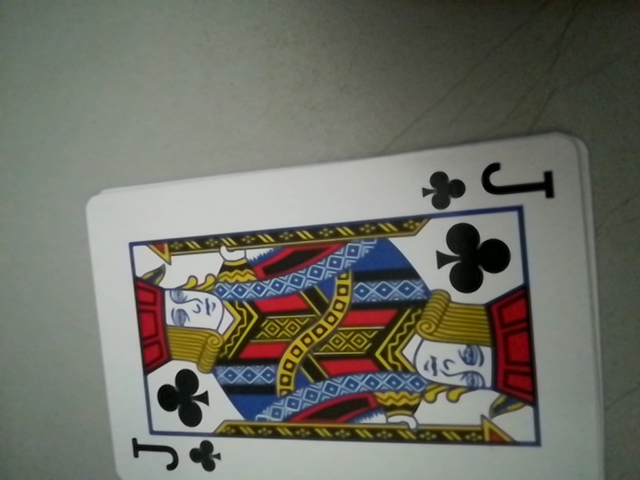mh j: (421, 155, 555, 213), (122, 430, 223, 480)
